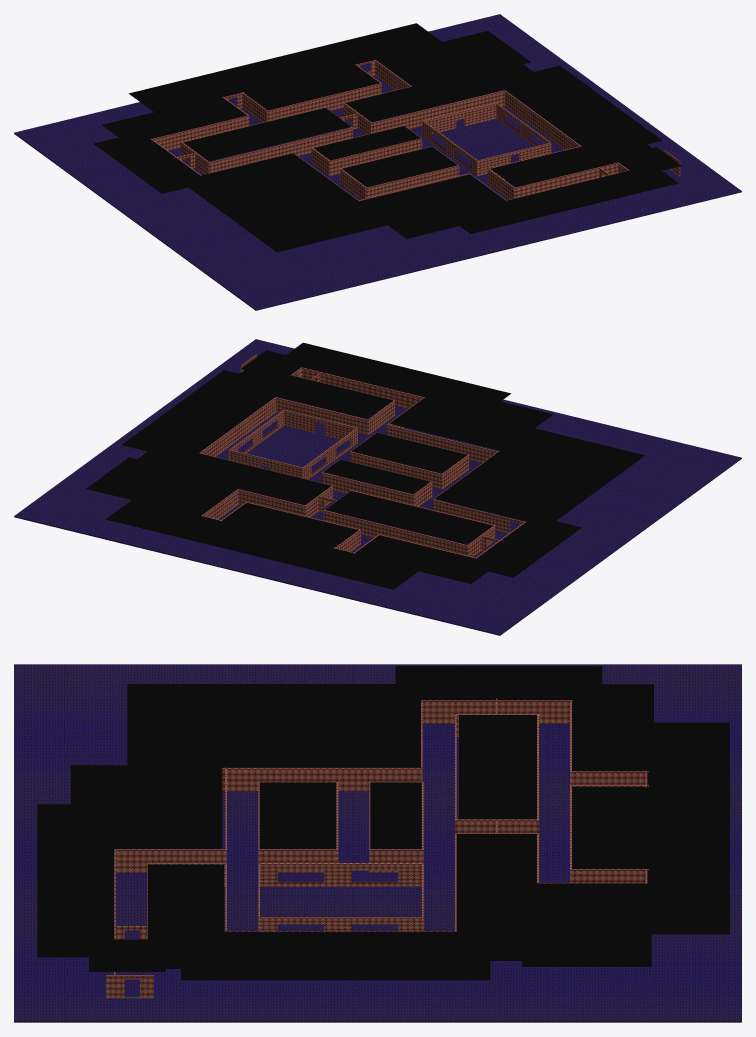
The model's file is floor_01.fbx.
3 views of the same model, one above another, from view 1: azimuth 30°, elevation 25°; view 2: azimuth 150°, elevation 25°; view 3: azimuth 270°, elevation 25° (orthographic). The views are drawn at different scales.
Visible parts, largest first — view 1: floor, Plane_3, Plane, Plane_11, Plane_4, Plane_6, Plane_10, Plane_9, Plane_8, Plane_5, Plane_2, Plane_1 (+16 smaller); view 2: floor, Plane_3, Plane, Plane_11, Plane_4, Plane_6, Plane_10, Plane_9, Plane_8, Plane_5, Plane_1, Plane_2 (+17 smaller); view 3: floor, Plane_3, Plane, Plane_11, Plane_4, Plane_10, Plane_6, Plane_9, Plane_8, Plane_5, Plane_1, Plane_2_2 (+15 smaller).
Boxes of the visible parts, x1,y1,x2,y2 form: floor: (14, 14, 741, 310); Plane_3: (180, 153, 389, 252); Plane: (129, 23, 441, 113); Plane_11: (494, 65, 662, 156); Plane_4: (356, 174, 519, 238); Plane_6: (445, 165, 678, 233); Plane_10: (374, 31, 530, 89); Plane_9: (345, 61, 543, 122); Plane_8: (183, 107, 350, 161); Plane_5: (490, 134, 653, 187); Plane_2: (102, 97, 246, 144); Plane_1: (94, 132, 199, 193); floor: (14, 339, 741, 635); Plane_3: (434, 428, 645, 526); Plane: (105, 500, 420, 589); Plane_11: (121, 370, 289, 460); Plane_4: (389, 387, 553, 451); Plane_6: (278, 342, 511, 411); Plane_10: (86, 457, 242, 516); Plane_9: (132, 443, 331, 504); Plane_8: (325, 491, 492, 544); Plane_5: (226, 366, 392, 418); Plane_1: (467, 521, 581, 577); Plane_2: (355, 535, 495, 583); floor: (14, 664, 741, 1022); Plane_3: (127, 684, 420, 767); Plane: (647, 722, 729, 934); Plane_11: (181, 931, 490, 980); Plane_4: (70, 765, 222, 848); Plane_10: (522, 883, 651, 966); Plane_6: (37, 804, 114, 957); Plane_9: (456, 834, 536, 960); Plane_8: (459, 715, 536, 819); Plane_5: (147, 864, 224, 968); Plane_1: (395, 666, 602, 700); Plane_2_2: (572, 786, 654, 870).
Bounding box in the file's own units: 18225 × 597 × 15709.
Materials: 59 (44 with a texture image).
